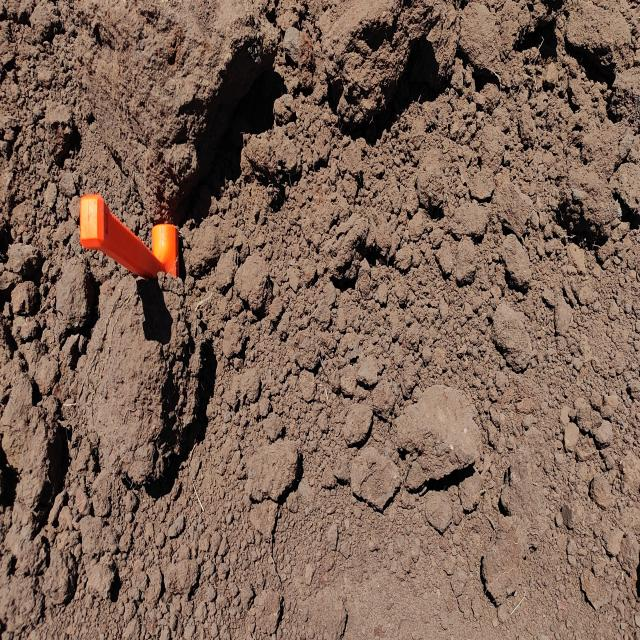Orange_hammer: (79, 192, 179, 281)
